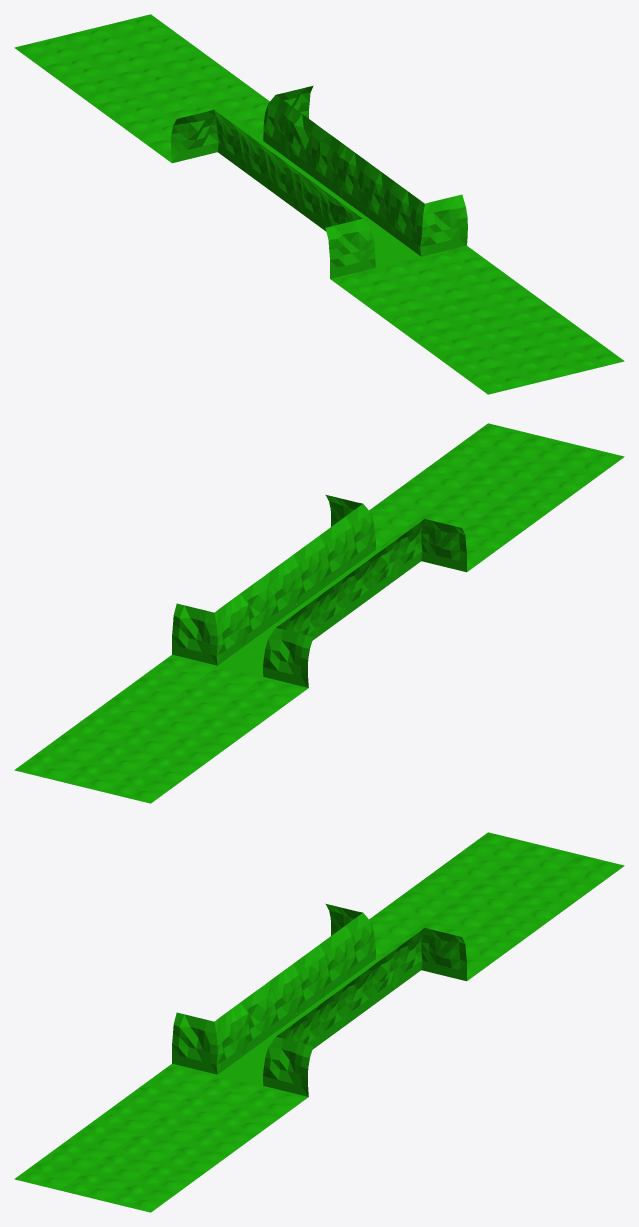
The model's file is greenTerrain.obj.
The picture shows the model from 3 angles, top to bottom: view 1: azimuth 30°, elevation 25°; view 2: azimuth 150°, elevation 25°; view 3: azimuth 330°, elevation 25°; orthographic projection.
Visible parts, largest first — view 1: 平面.017; view 2: 平面.017; view 3: 平面.017.
Boxes of the visible parts, x1=… form: 平面.017: x1=14, y1=14, x2=624, y2=394; 平面.017: x1=14, y1=423, x2=624, y2=803; 平面.017: x1=14, y1=832, x2=624, y2=1212.
Bounding box in the file's own units: 180 × 60.08 × 1080.
Materials: 1 (1 with a texture image).
